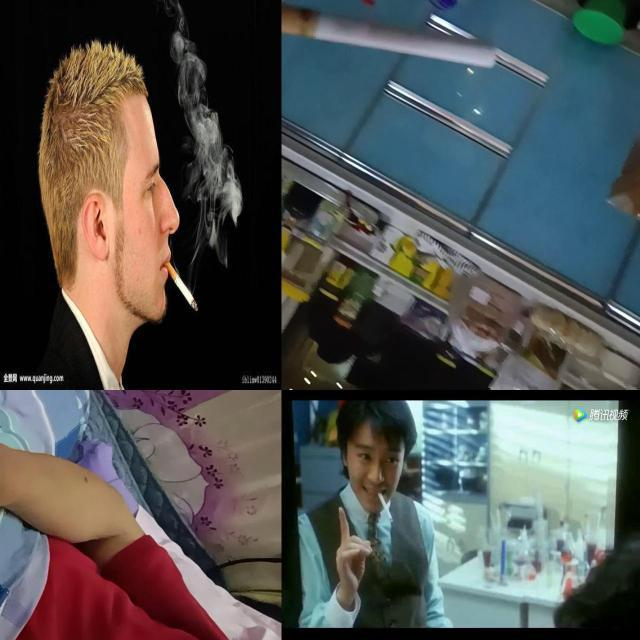smoking: (282, 4, 498, 70), (164, 256, 200, 314), (378, 492, 394, 524)
